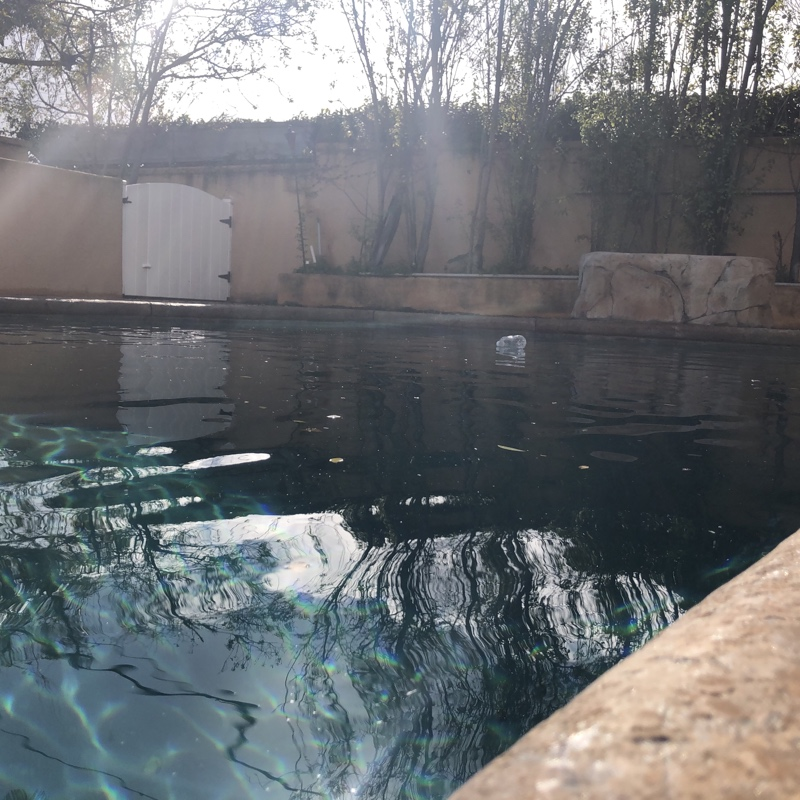Plastic Bottle: (492, 335, 527, 353)
